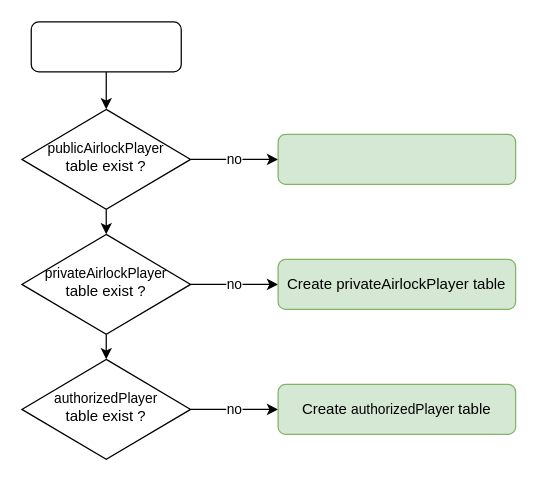
Image size: 538x481. Some labels were removed from this diagram. The box of each missing label's shape, as (x1, y1, x2, y2) in pixels:
Create publicAirlockPlayer table: (277, 133, 516, 184)
Start Initialize dataBank: (30, 21, 181, 72)
